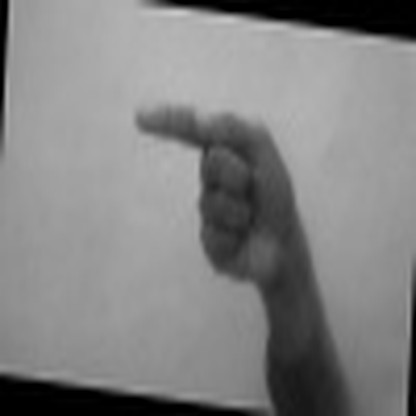g: (124, 99, 315, 286)
